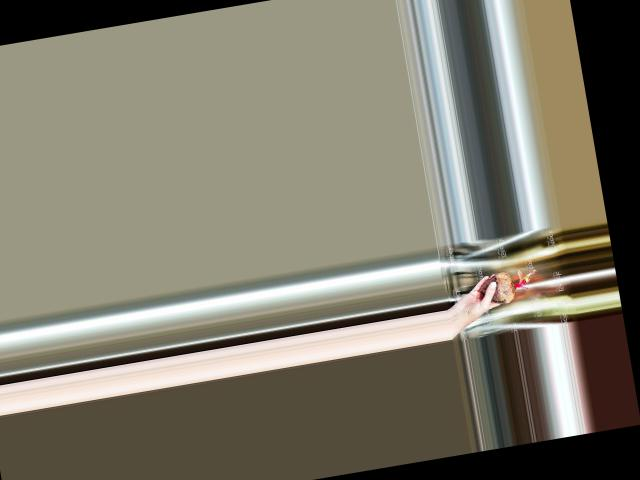beet: (477, 266, 539, 306)
